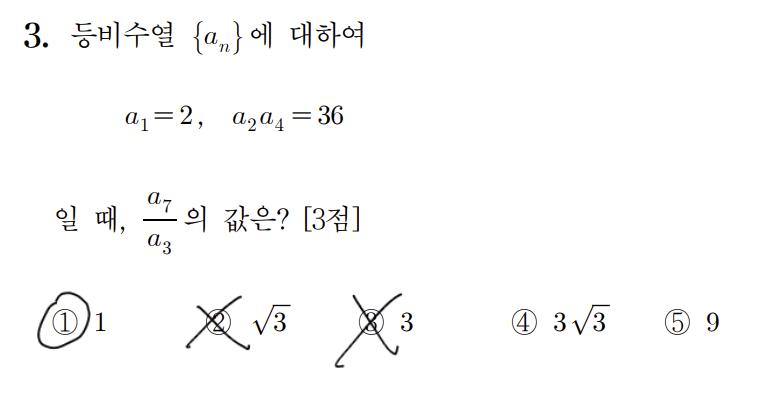1: (38, 288, 92, 354)
paper: (662, 305, 692, 337), (509, 307, 539, 339), (357, 305, 387, 337), (203, 307, 233, 339), (50, 305, 80, 337)
